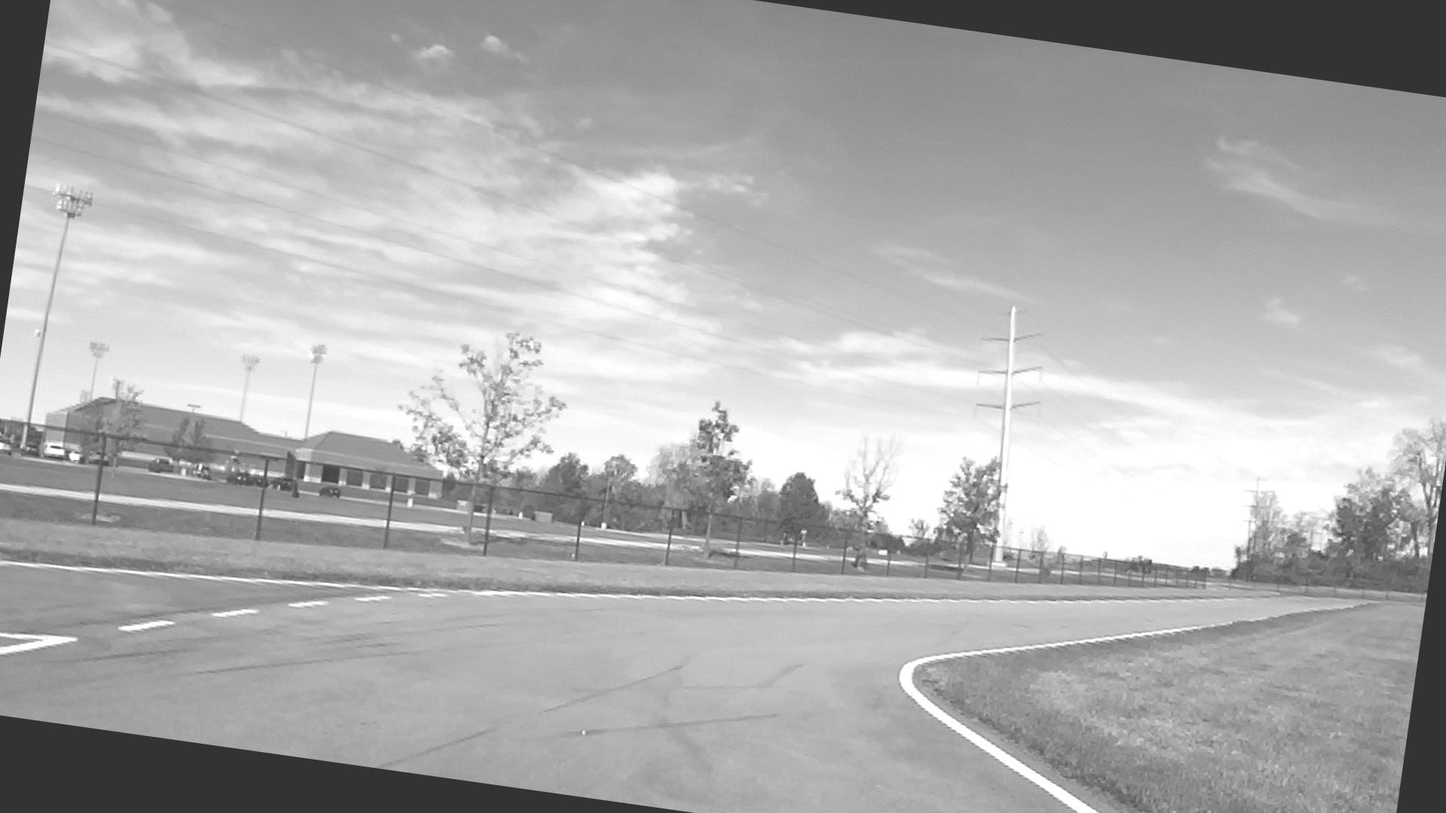white-line: (899, 625, 1209, 813), (0, 560, 882, 602), (0, 635, 77, 656), (0, 632, 73, 645), (119, 619, 175, 632), (213, 609, 258, 616), (290, 600, 327, 607), (355, 595, 392, 600)
